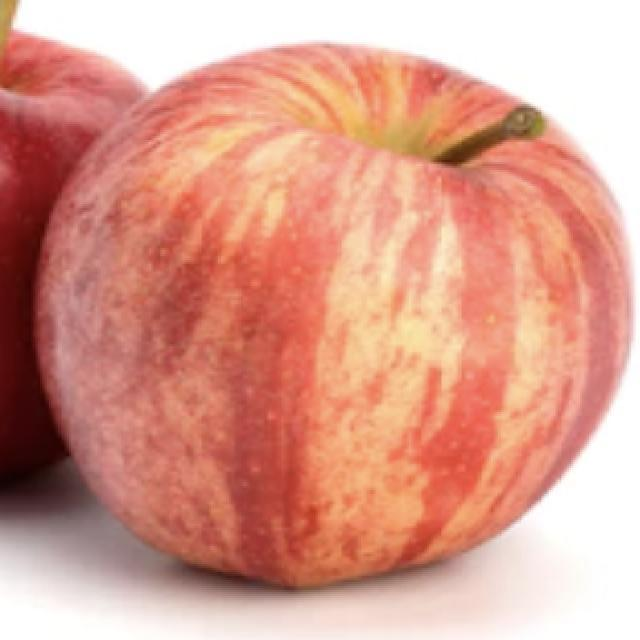Fresh Apple: (65, 45, 603, 603)
